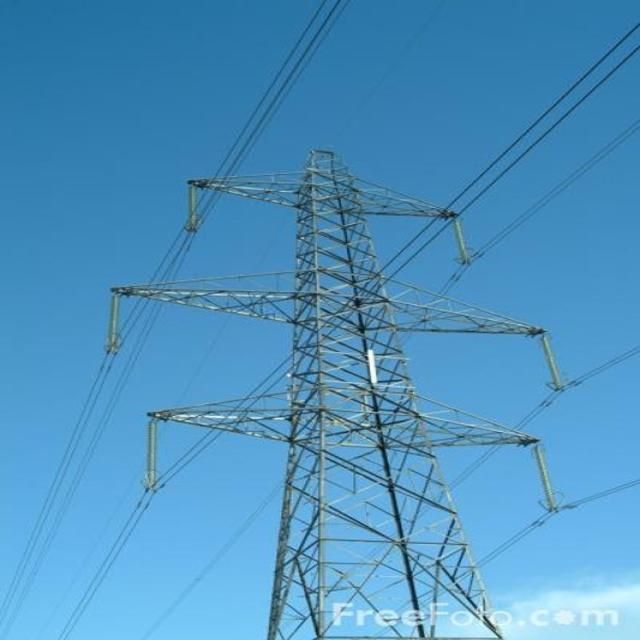non-critical vegetation: (115, 144, 591, 638)
